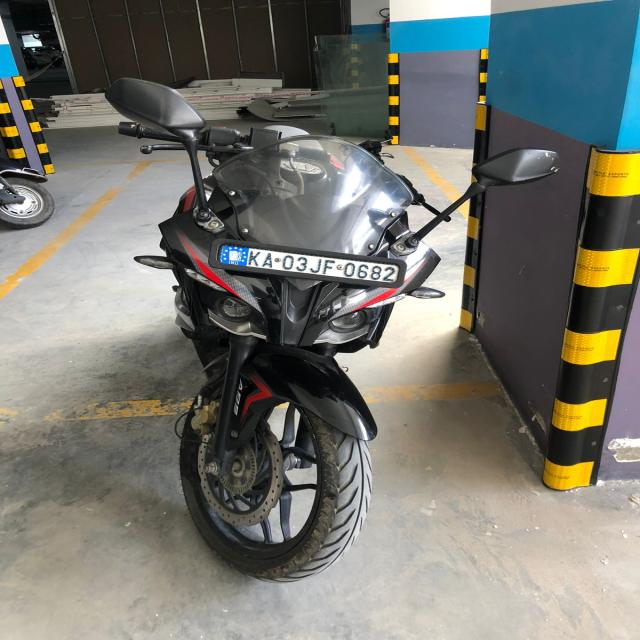license_plate: (212, 241, 406, 288)
